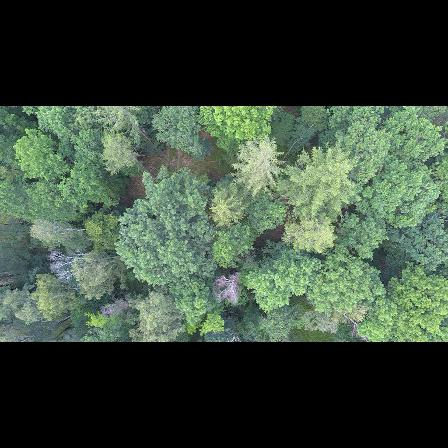Dead: (45, 247, 89, 282), (211, 270, 242, 307), (98, 293, 133, 321)
